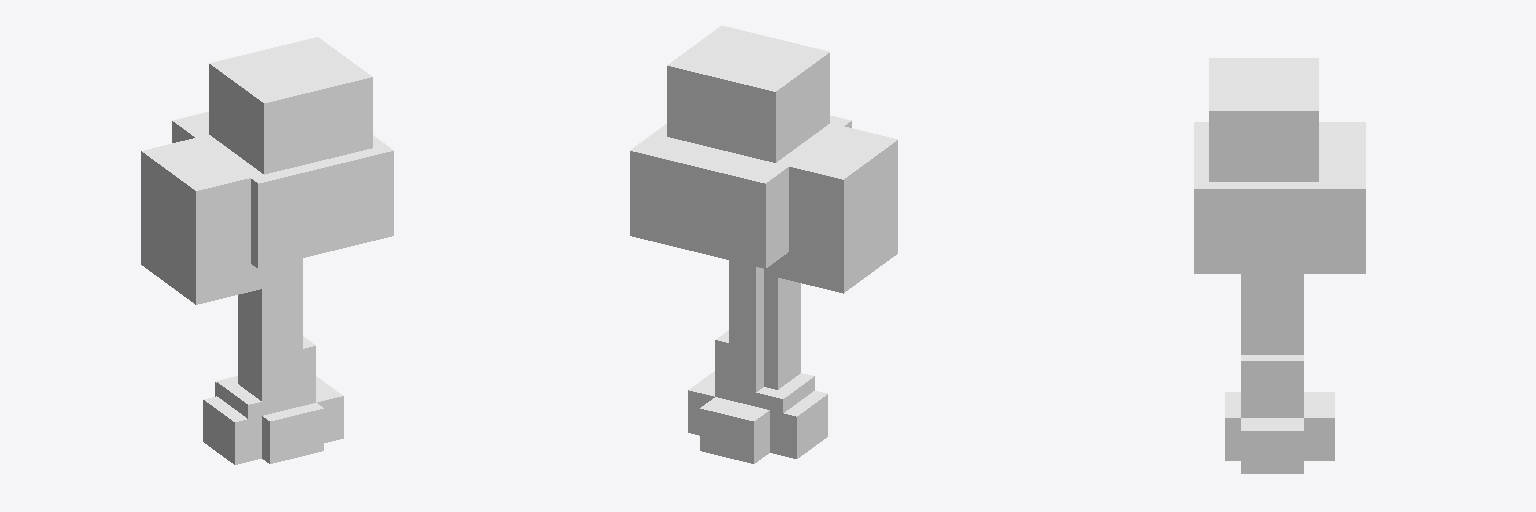
The model's file is small_tree2.obj.
The picture shows the model from 3 angles: view 1: azimuth 30°, elevation 25°; view 2: azimuth 150°, elevation 25°; view 3: azimuth 270°, elevation 25°; orthographic projection.
Parts seen in each view (by area): view 1: object 1; view 2: object 1; view 3: object 1.
Boxes of the visible parts, x1=… form: object 1: x1=141, y1=37, x2=393, y2=464; object 1: x1=630, y1=26, x2=897, y2=463; object 1: x1=1194, y1=58, x2=1365, y2=473.
Bounding box in the file's own units: 1.4 × 2.6 × 1.1.